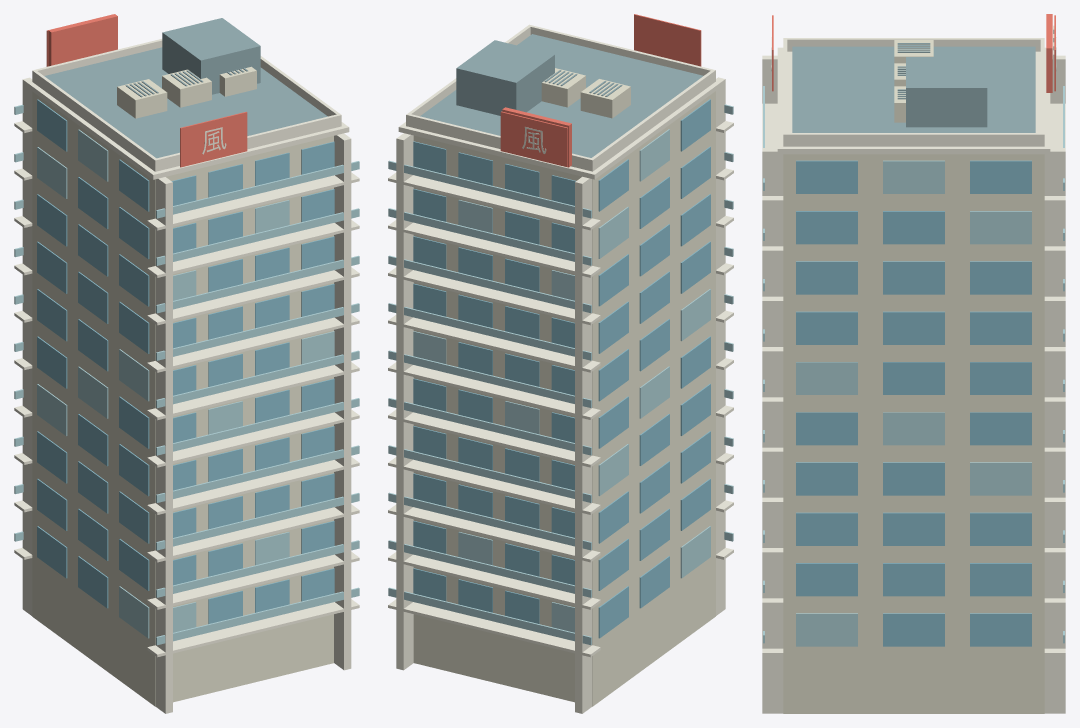
File: building-b.glb
3 renders of one model, left to right at view 1: azimuth 30°, elevation 25°; view 2: azimuth 150°, elevation 25°; view 3: azimuth 270°, elevation 25°, orthographic. The views are drawn at different scales.
Visible parts, largest first — view 1: Sora_Building_B_Surface; view 2: Sora_Building_B_Surface; view 3: Sora_Building_B_Surface.
Boxes of the visible parts, <box> form: Sora_Building_B_Surface: <box>14,14,359,713</box>; Sora_Building_B_Surface: <box>388,14,733,713</box>; Sora_Building_B_Surface: <box>762,14,1065,713</box>.
Bounding box in the file's own units: 15.2 × 41.5 × 18.6.
